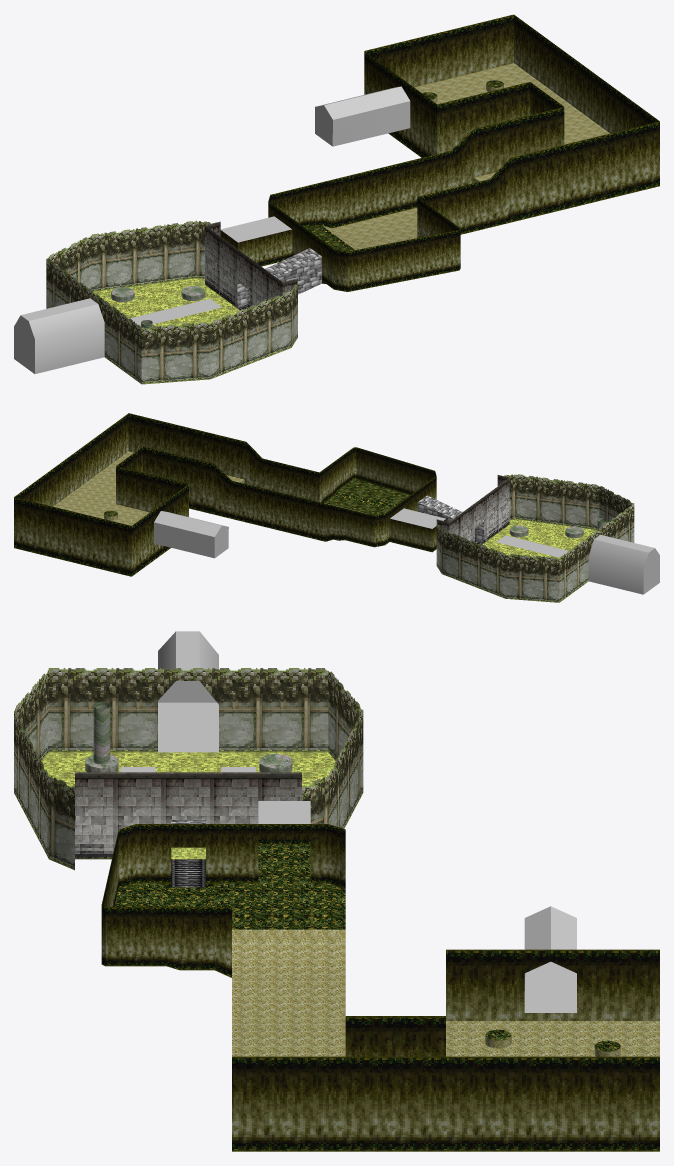
Rendered from NewE0M1.obj.
3 views of the same model, one above another, from view 1: azimuth 30°, elevation 25°; view 2: azimuth 150°, elevation 25°; view 3: azimuth 270°, elevation 25° (orthographic). The views are drawn at different scales.
Visible parts, largest first — view 1: Phys__materials/courtyardwalls.vmat#SFX_2, Phys__materials/hylialakewall.vmat#SFX_2, Phys__materials/frostyfloor.vmat#SFX_2, Phys__materials/underwatergrass.vmat#SFX_1, Phys__materials/lakelabwall.vmat#SFX_2, Phys__materials/watergrass1.vmat#SFX_8, Phys__materials/courtyardvariedwhitebricks.vmat#SFX_2, Phys__materials/cheapcarpet.vmat#SFX_6, Phys__materials/insidebanister.vmat#SFX_2#WALLPROPERTY_NO_LEDGE_, Phys__materials/courtyardgrass.vmat#SFX_8; view 2: Phys__materials/courtyardwalls.vmat#SFX_2, Phys__materials/hylialakewall.vmat#SFX_2, Phys__materials/frostyfloor.vmat#SFX_2, Phys__materials/underwatergrass.vmat#SFX_1, Phys__materials/lakelabwall.vmat#SFX_2, Phys__materials/watergrass1.vmat#SFX_8, Phys__materials/courtyardgrass.vmat#SFX_8, Phys__materials/courtyardvariedwhitebricks.vmat#SFX_2, Phys__materials/cheapcarpet.vmat#SFX_6, Phys__materials/insidebanister.vmat#SFX_2#WALLPROPERTY_NO_LEDGE_; view 3: Phys__materials/courtyardwalls.vmat#SFX_2, Phys__materials/hylialakewall.vmat#SFX_2, Phys__materials/underwatergrass.vmat#SFX_1, Phys__materials/lakelabwall.vmat#SFX_2, Phys__materials/courtyardgrass.vmat#SFX_8, Phys__materials/frostyfloor.vmat#SFX_2, Phys__materials/watergrass1.vmat#SFX_8, Phys__materials/insidebanister.vmat#SFX_2#WALLPROPERTY_NO_LEDGE_, PhysExit__materials/frostyfloor.vmat.001#SFX_2#Exit00, Phys__materials/courtyardstairs.vmat#SFX_2.
Part boxes in pixels (box(x1,y1,x2,y2)): Phys__materials/courtyardwalls.vmat#SFX_2: box(220, 14, 659, 291); Phys__materials/hylialakewall.vmat#SFX_2: box(46, 220, 297, 384); Phys__materials/frostyfloor.vmat#SFX_2: box(14, 86, 410, 373); Phys__materials/underwatergrass.vmat#SFX_1: box(322, 63, 609, 249); Phys__materials/lakelabwall.vmat#SFX_2: box(205, 221, 297, 308); Phys__materials/watergrass1.vmat#SFX_8: box(93, 278, 239, 326); Phys__materials/courtyardvariedwhitebricks.vmat#SFX_2: box(237, 248, 321, 308); Phys__materials/cheapcarpet.vmat#SFX_6: box(128, 298, 221, 325); Phys__materials/insidebanister.vmat#SFX_2#WALLPROPERTY_NO_LEDGE_: box(111, 286, 205, 328); Phys__materials/courtyardgrass.vmat#SFX_8: box(304, 80, 503, 251); Phys__materials/courtyardwalls.vmat#SFX_2: box(14, 413, 446, 576); Phys__materials/hylialakewall.vmat#SFX_2: box(436, 474, 634, 602); Phys__materials/frostyfloor.vmat#SFX_2: box(154, 508, 659, 594); Phys__materials/underwatergrass.vmat#SFX_1: box(53, 451, 368, 525); Phys__materials/lakelabwall.vmat#SFX_2: box(436, 475, 509, 542); Phys__materials/watergrass1.vmat#SFX_8: box(482, 519, 597, 558); Phys__materials/courtyardgrass.vmat#SFX_8: box(104, 479, 409, 516); Phys__materials/courtyardvariedwhitebricks.vmat#SFX_2: box(417, 495, 483, 542); Phys__materials/cheapcarpet.vmat#SFX_6: box(496, 535, 568, 557); Phys__materials/insidebanister.vmat#SFX_2#WALLPROPERTY_NO_LEDGE_: box(509, 518, 606, 538); Phys__materials/courtyardwalls.vmat#SFX_2: box(101, 824, 659, 1151); Phys__materials/hylialakewall.vmat#SFX_2: box(14, 668, 363, 870); Phys__materials/underwatergrass.vmat#SFX_1: box(232, 929, 659, 1056); Phys__materials/lakelabwall.vmat#SFX_2: box(75, 772, 301, 859); Phys__materials/courtyardgrass.vmat#SFX_8: box(114, 844, 620, 1051); Phys__materials/frostyfloor.vmat#SFX_2: box(158, 631, 576, 1012); Phys__materials/watergrass1.vmat#SFX_8: box(41, 752, 335, 859); Phys__materials/insidebanister.vmat#SFX_2#WALLPROPERTY_NO_LEDGE_: box(85, 702, 292, 772); PhysExit__materials/frostyfloor.vmat.001#SFX_2#Exit00: box(524, 961, 576, 998); Phys__materials/courtyardstairs.vmat#SFX_2: box(171, 859, 205, 887).
Size of what is drawn, in the model's own units: 3226 by 358 by 1894.
